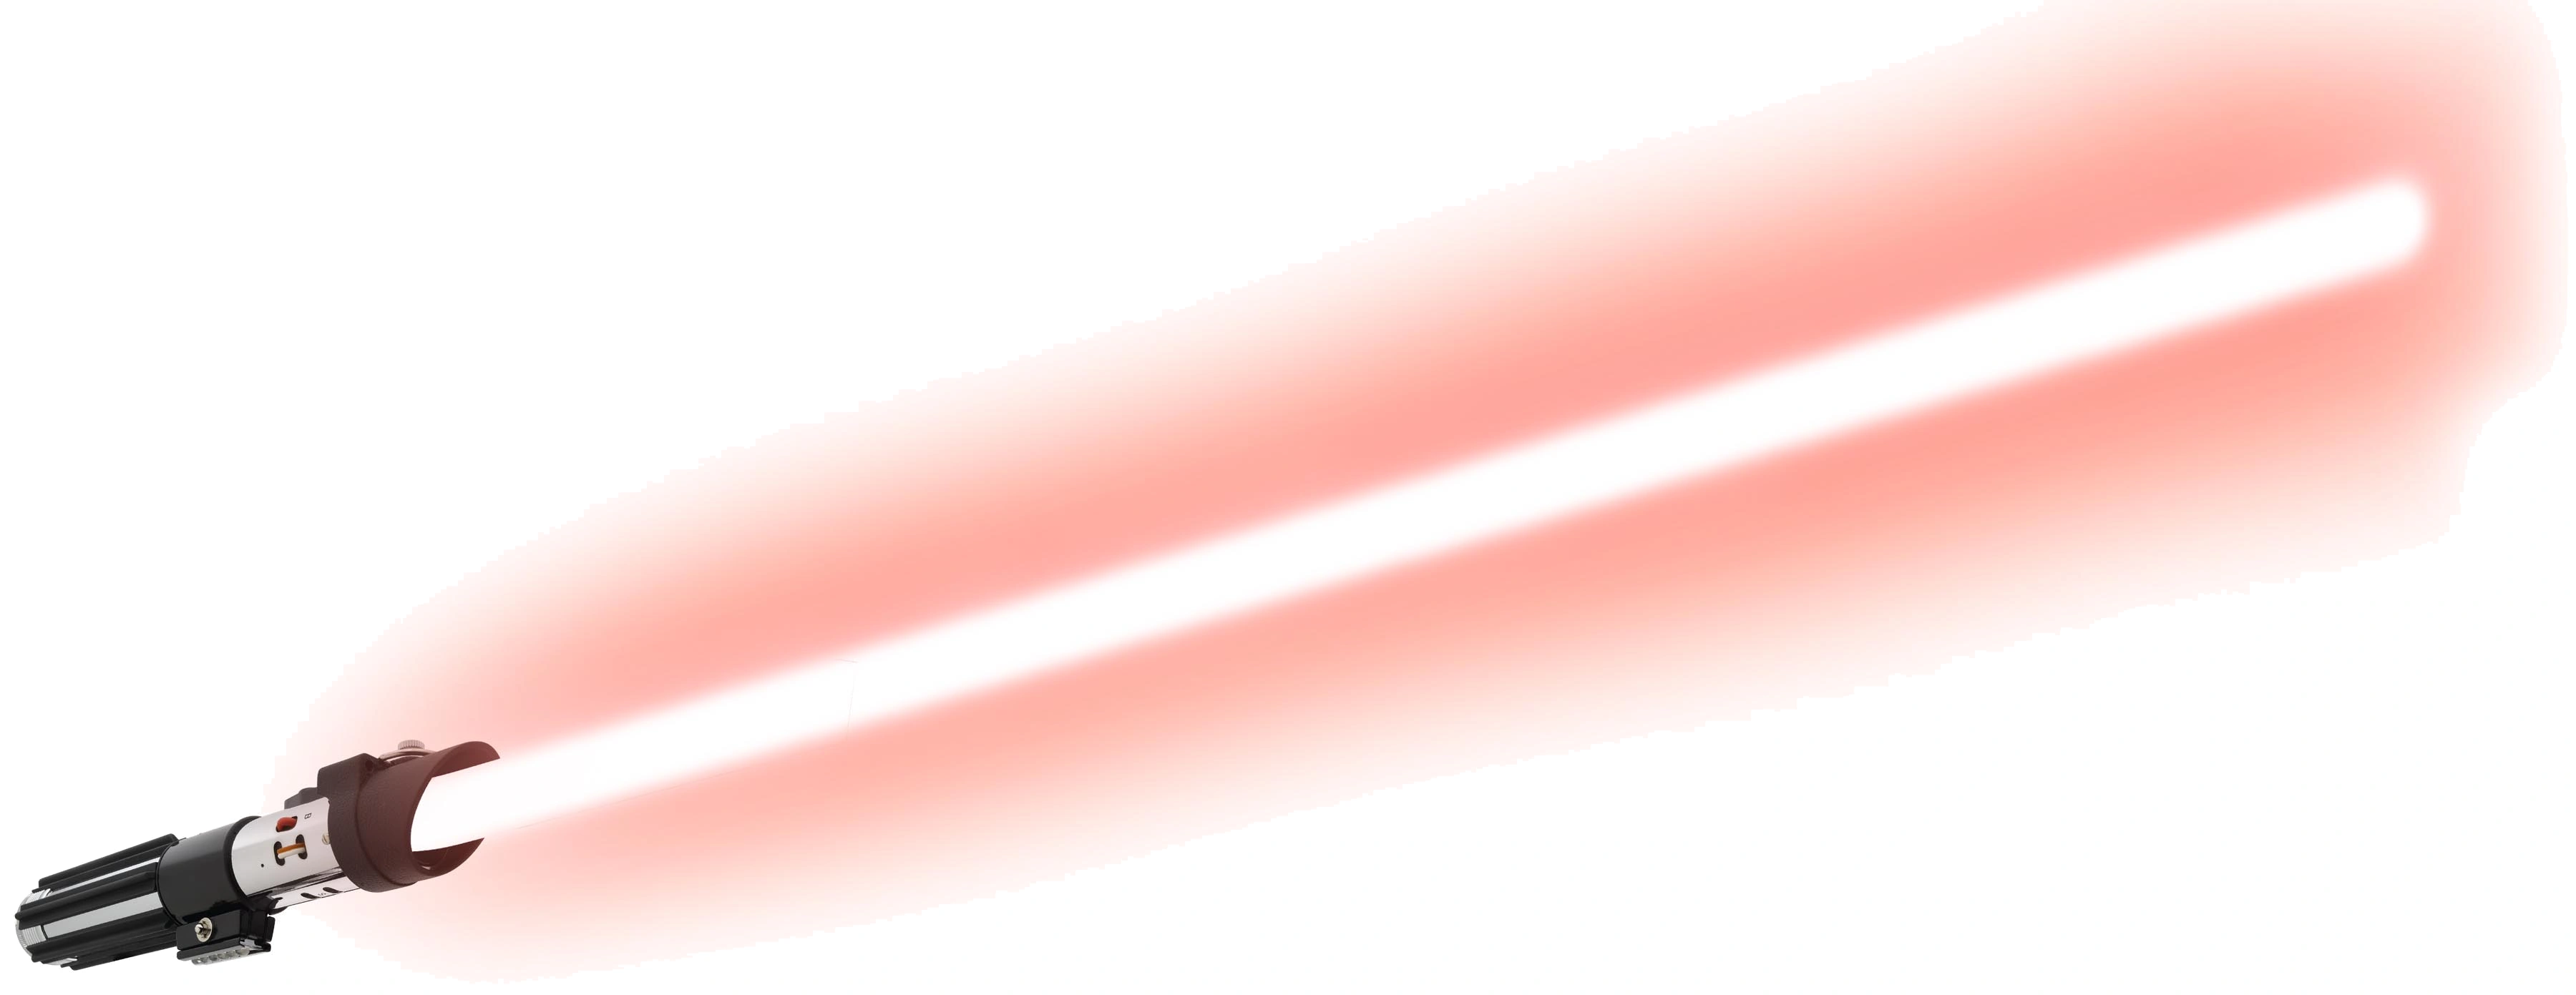cats: (3, 176, 2446, 975)
